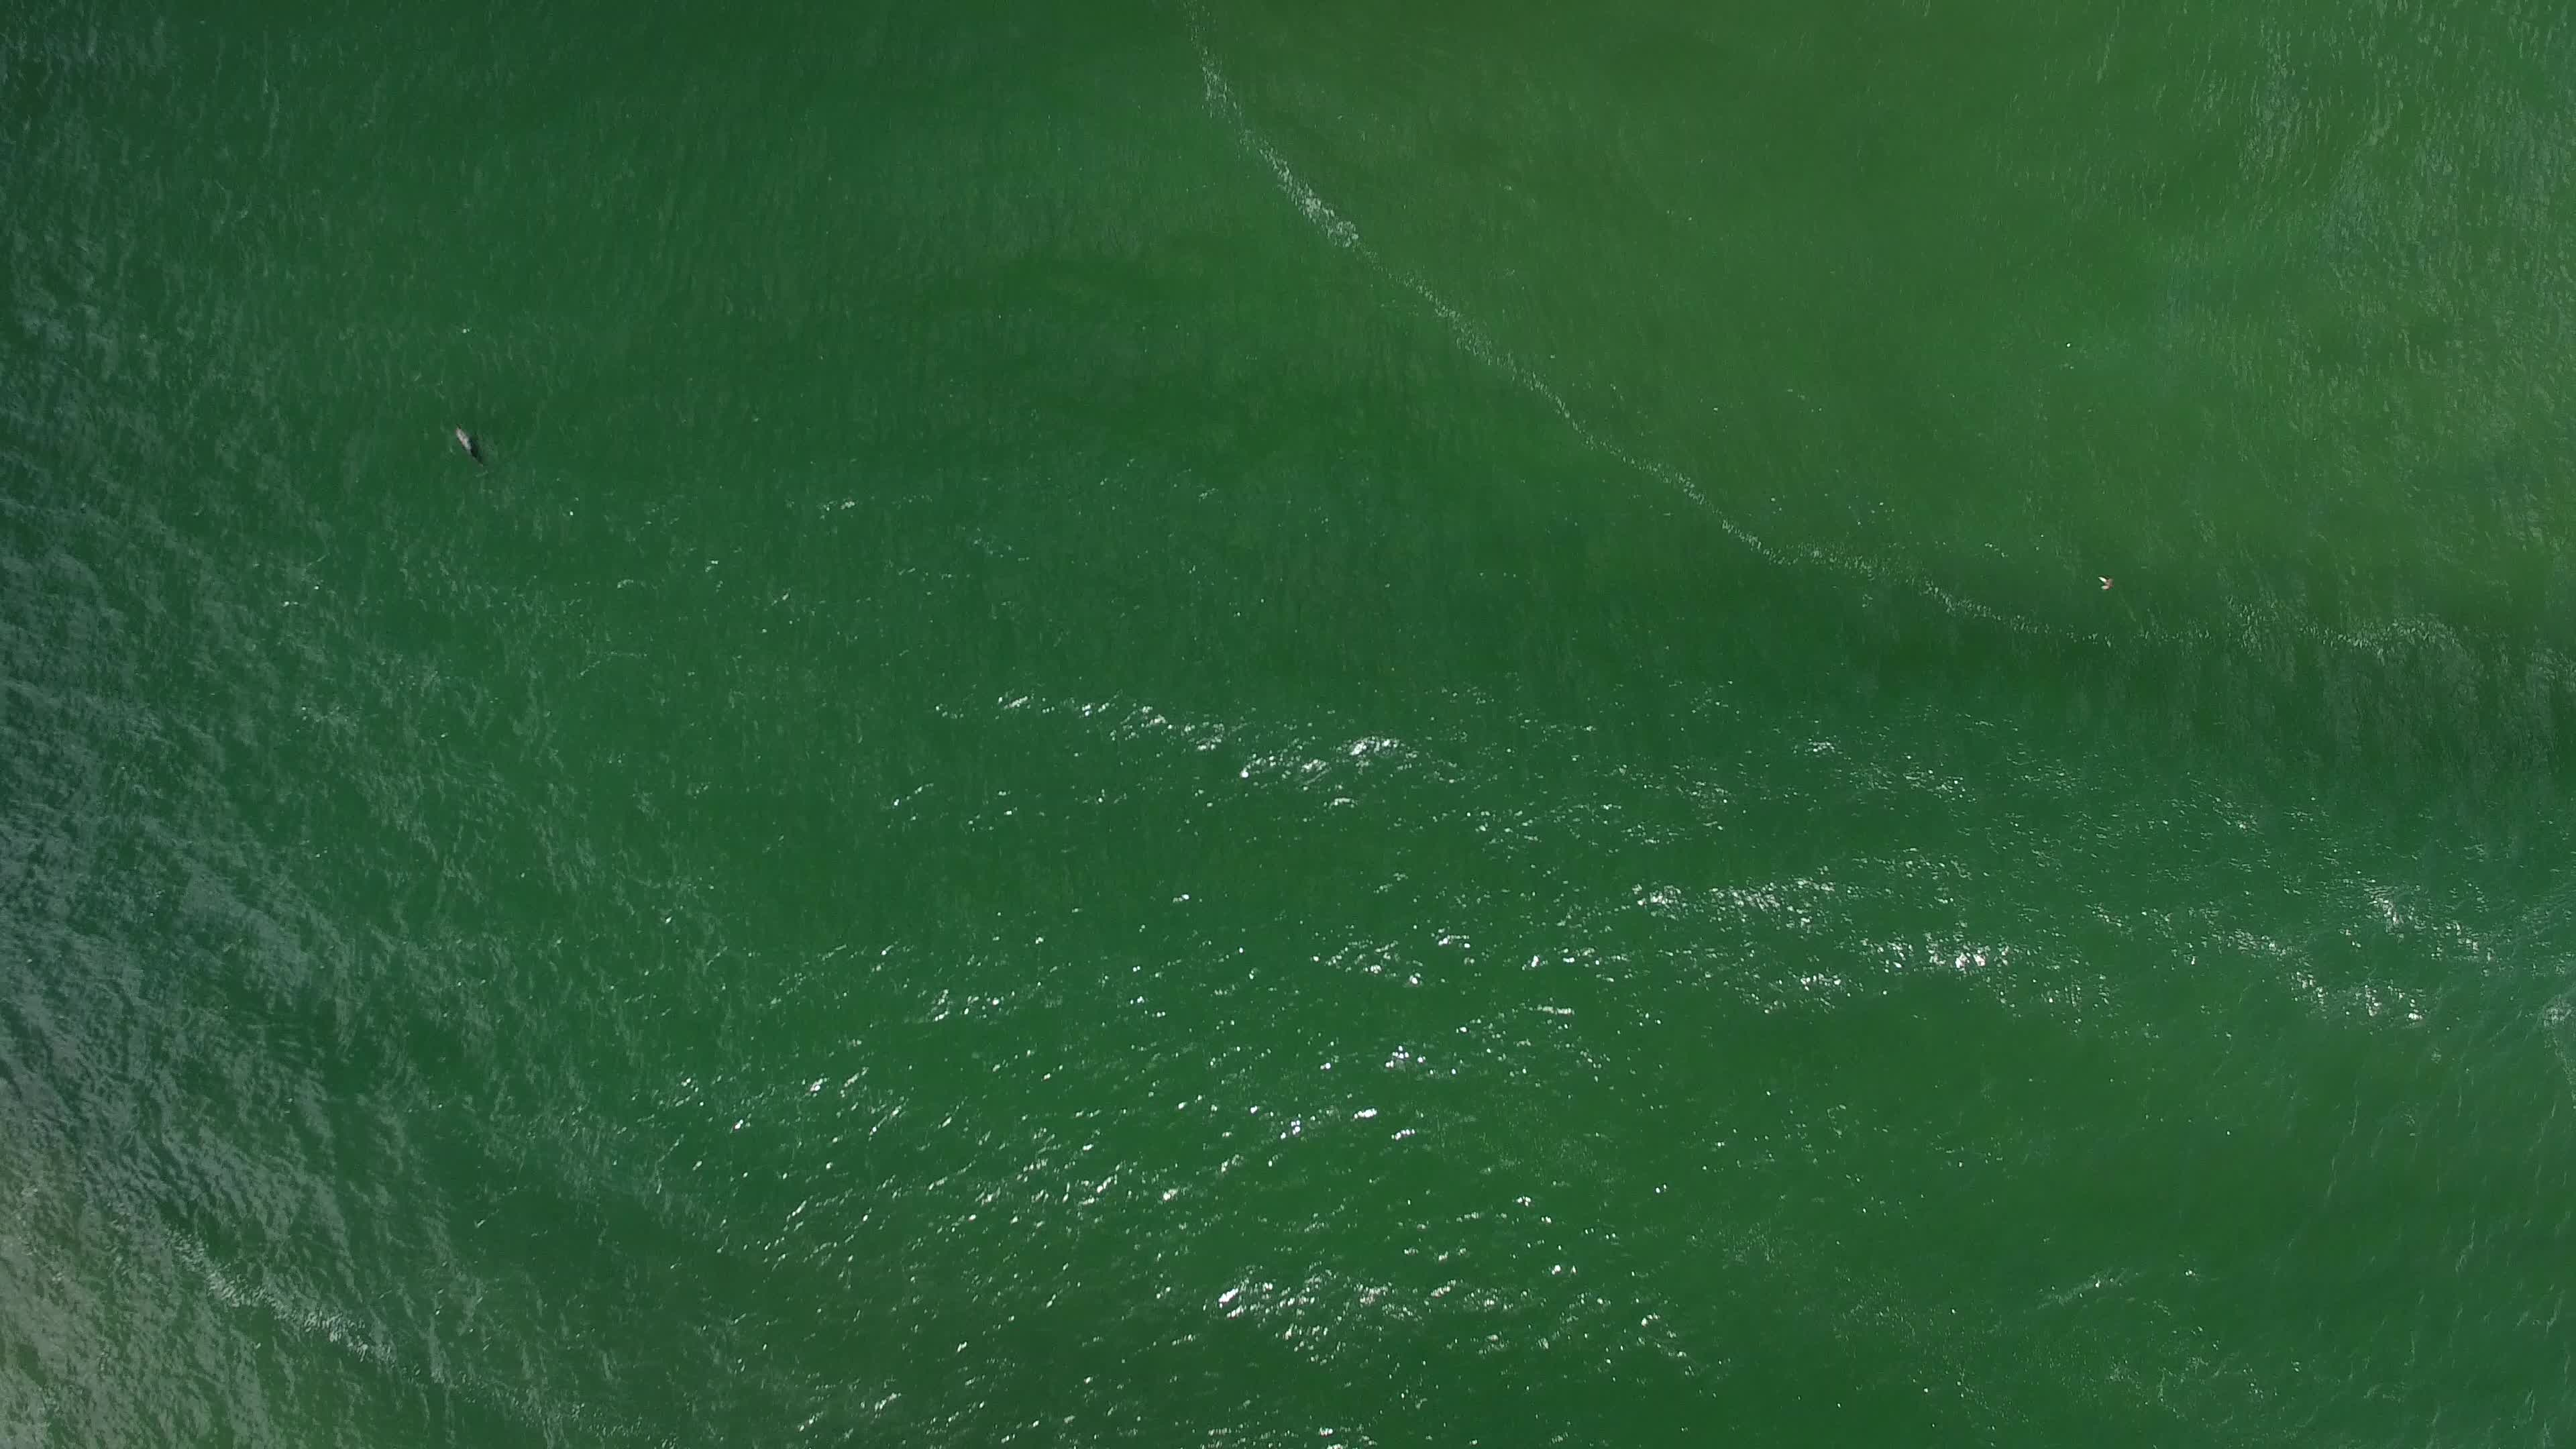dolphin: (426, 405, 497, 483)
